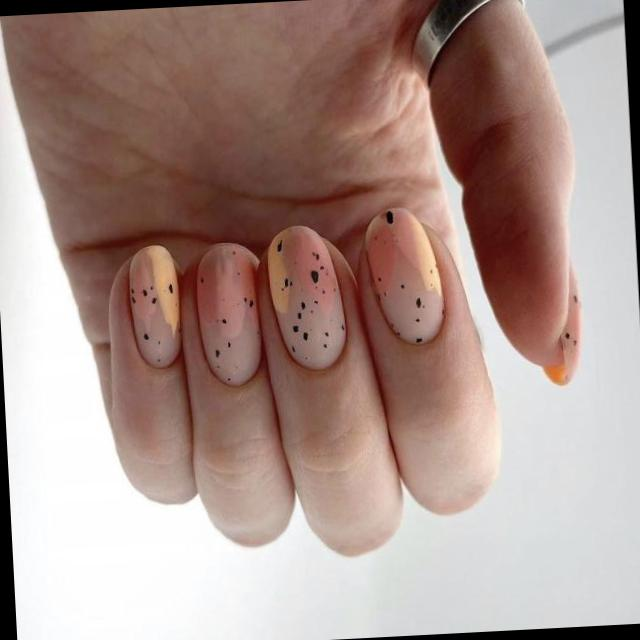Nail: (265, 226, 346, 370), (365, 208, 444, 345), (196, 243, 262, 386), (129, 246, 179, 368), (546, 279, 578, 383)
